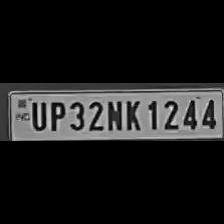1: (141, 97, 158, 131)
2: (159, 97, 179, 131), (86, 98, 104, 132)
3: (66, 98, 84, 132)
4: (178, 96, 198, 130), (198, 95, 216, 129)
K: (122, 97, 142, 131)
N: (105, 97, 123, 132)
P: (46, 97, 66, 132)
U: (28, 98, 46, 132)
